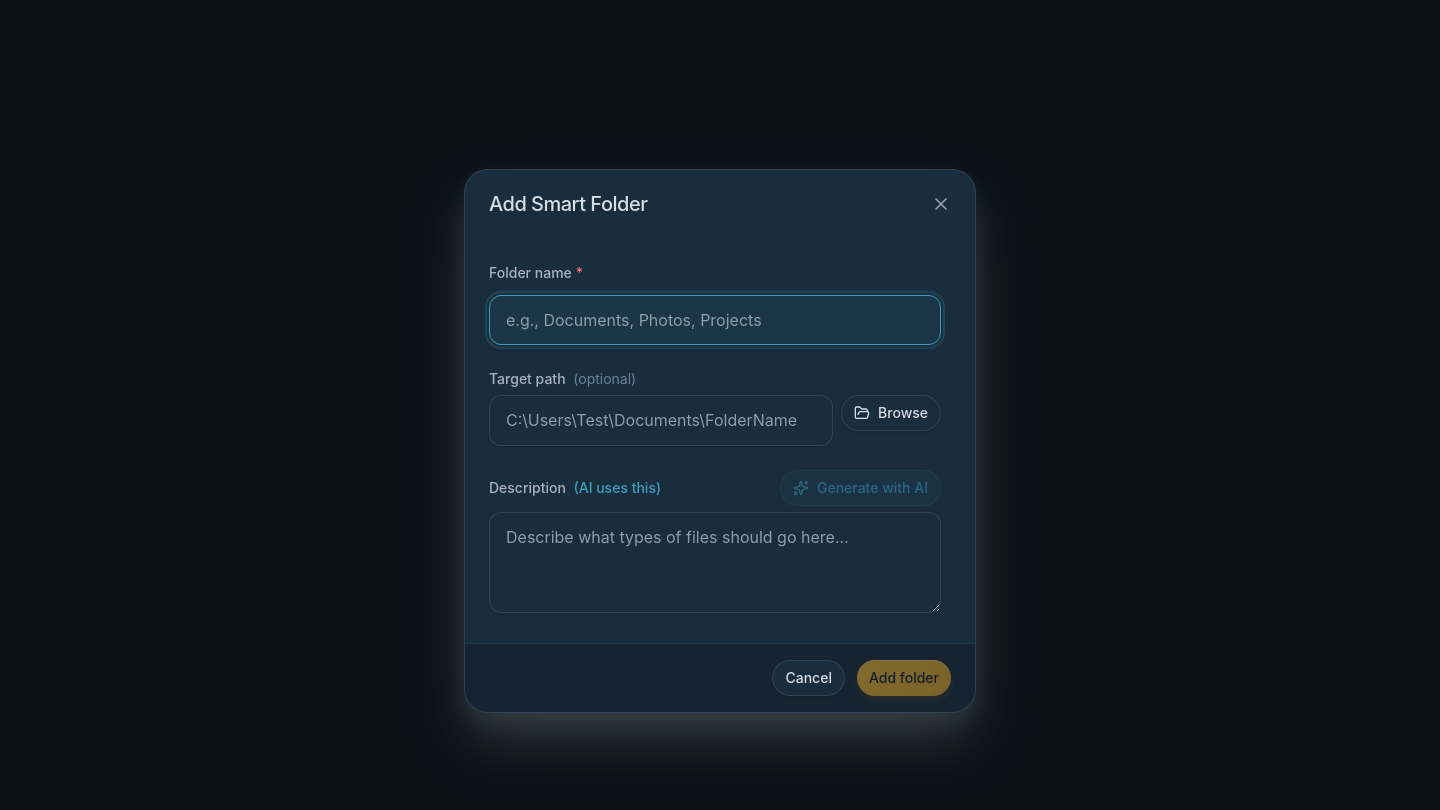
Test case: AddSmartFolderModal — Generate with AI feedback › Cancel button stops the spinner immediately and discards the late result
The image size is (1440, 810).
Type "Resumes" into the field labelled "Folder name*".
click(715, 320); type("Resumes")  # box [489,295,941,345]
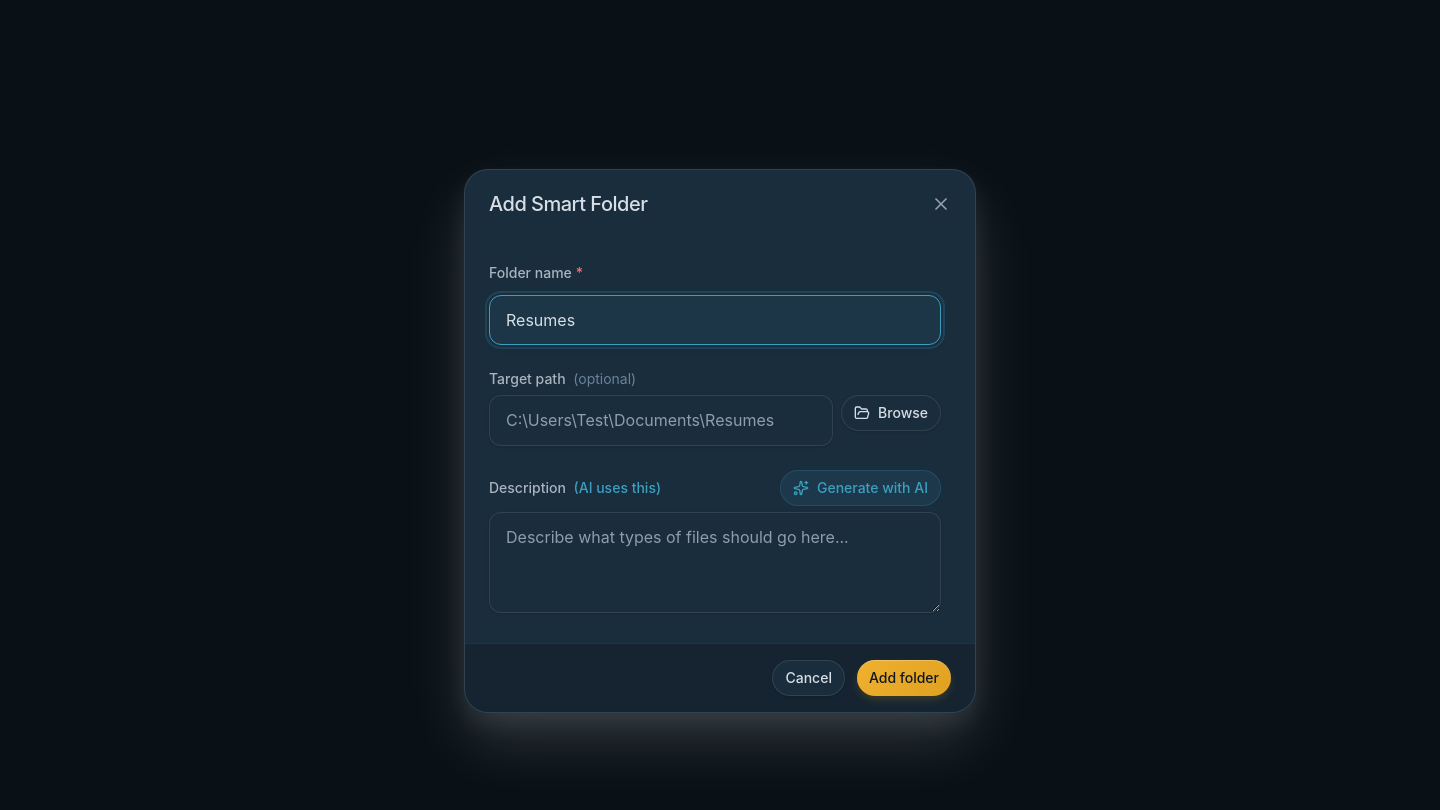
Click the button "Generate with AI".
click(860, 488)  # box [780,470,941,506]
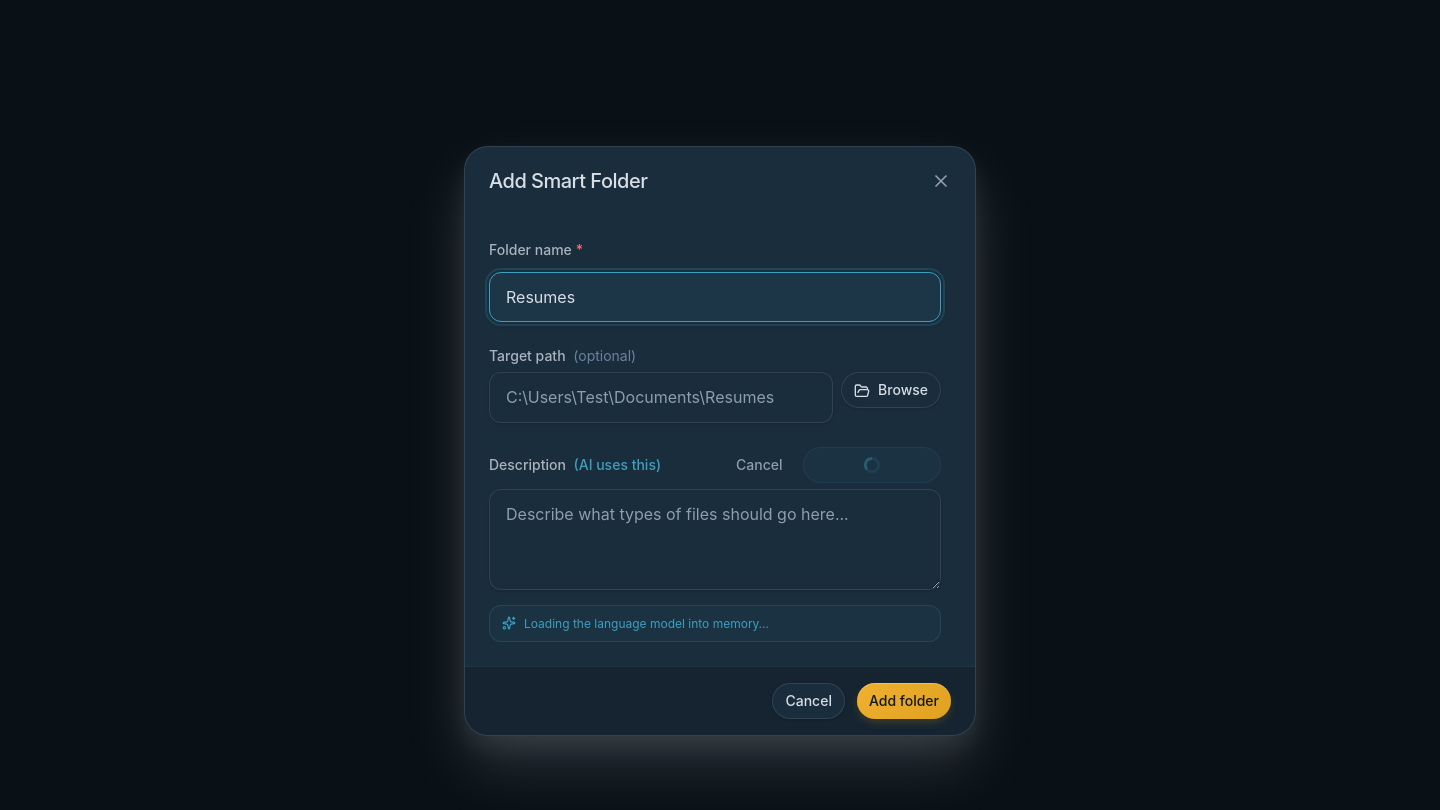
Expected: the button titled "Stop generating and write your own" next to "(AI uses this)" is shown
Click the button titled "Stop generating and write your own" next to "(AI uses this)".
click(759, 466)  # box [723,448,796,484]
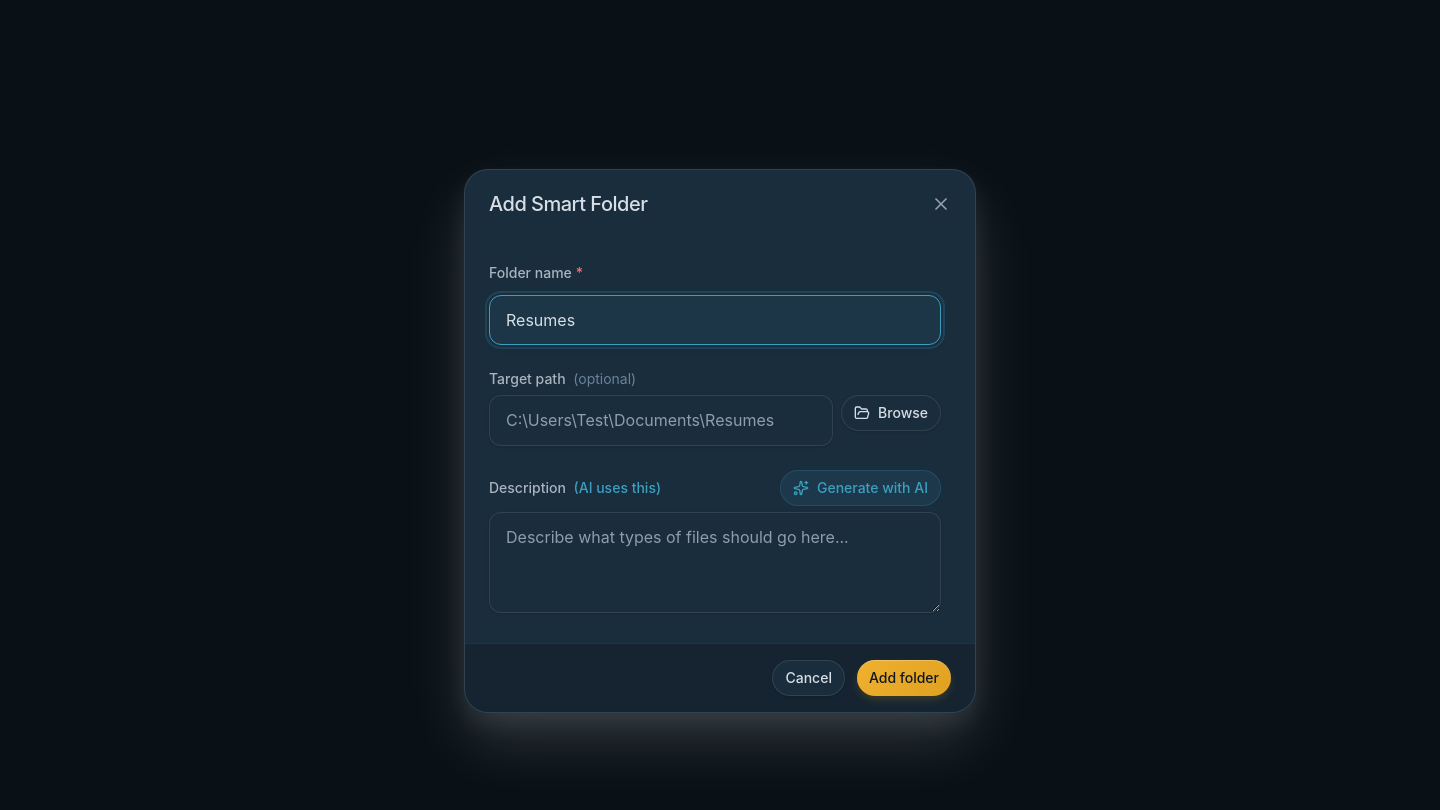
Expected: the text box with placeholder "Describe what types of files should go here..." is empty, [489,512,941,613]
Expected: the button "Generate with AI" is shown, [780,470,941,506]
